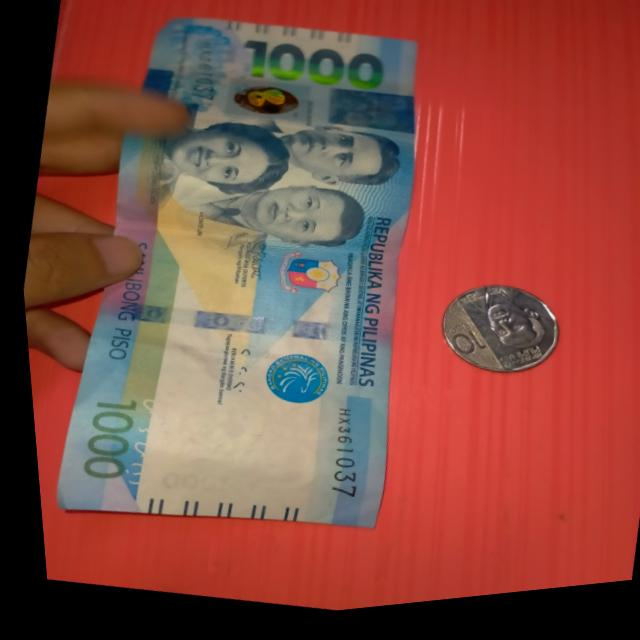concealed_value: (318, 84, 422, 151)
optically_variable_device: (219, 72, 317, 139)
security_thread: (87, 276, 389, 381)
see_through_mark: (103, 391, 171, 499)
value_watermark: (144, 462, 233, 509)
